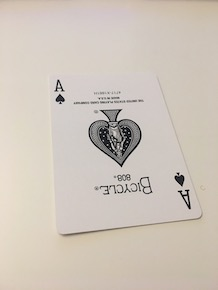AceOfSpades: (40, 68, 207, 238)
